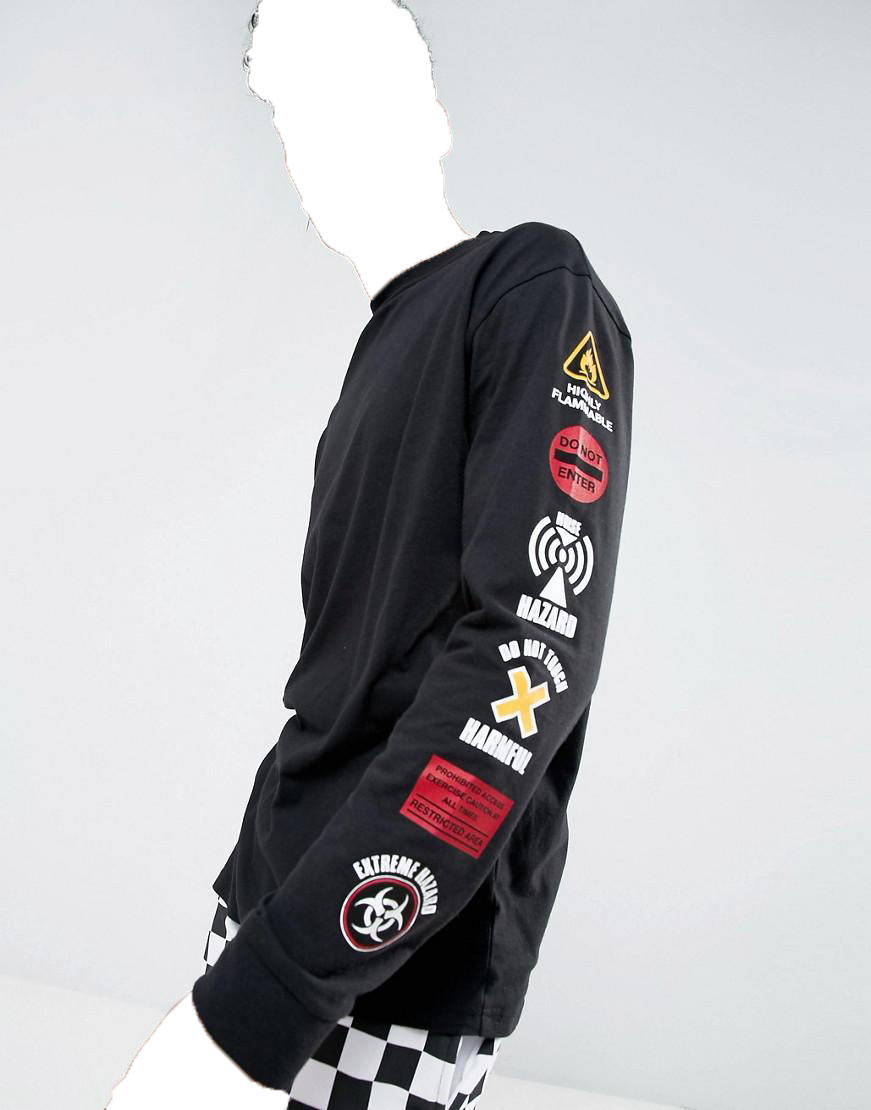teeshirt: (212, 229, 701, 1088)
